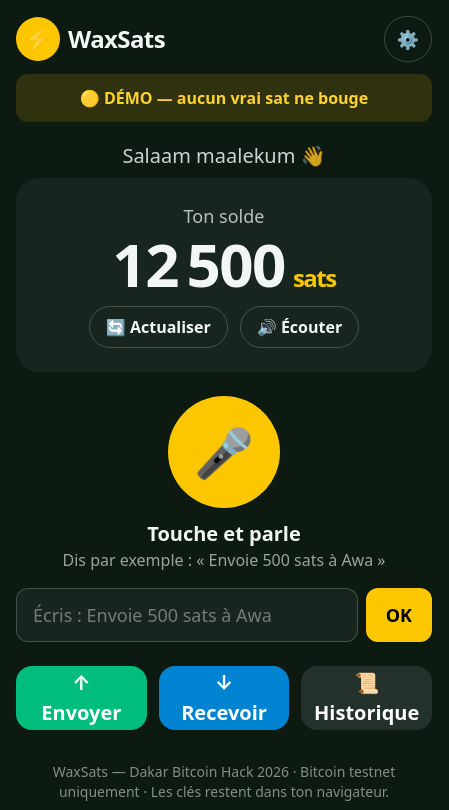
Test: WaxSats app — demo mode flows › history shows the seeded demo entries
Check: the element with test id "balance" is shown, box [112,223,336,305]
Click the button "📜Historique" at [367, 698], box [301,666,432,730]
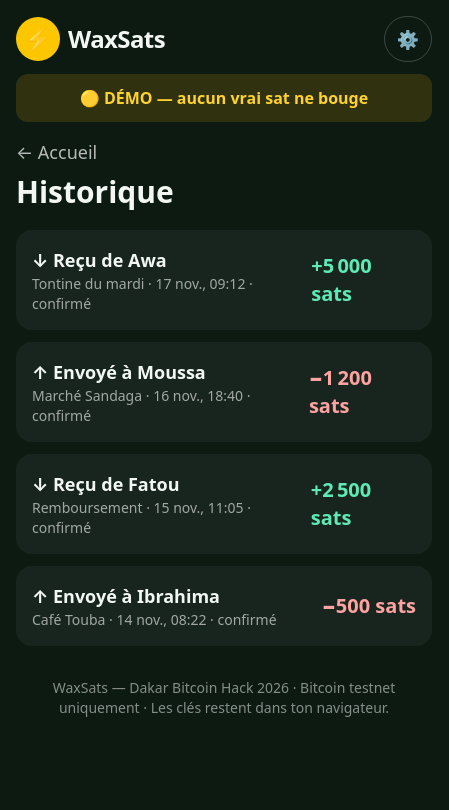
Check: the text "↑ Envoyé à Moussa" is shown, box [32,360,206,384]
Check: the text "↓ Reçu de Awa" is shown, box [32,248,167,272]
